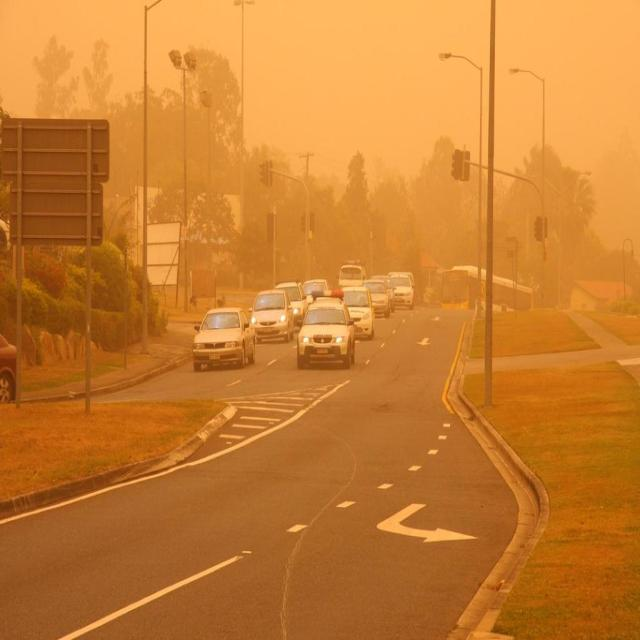car: (186, 295, 255, 367)
